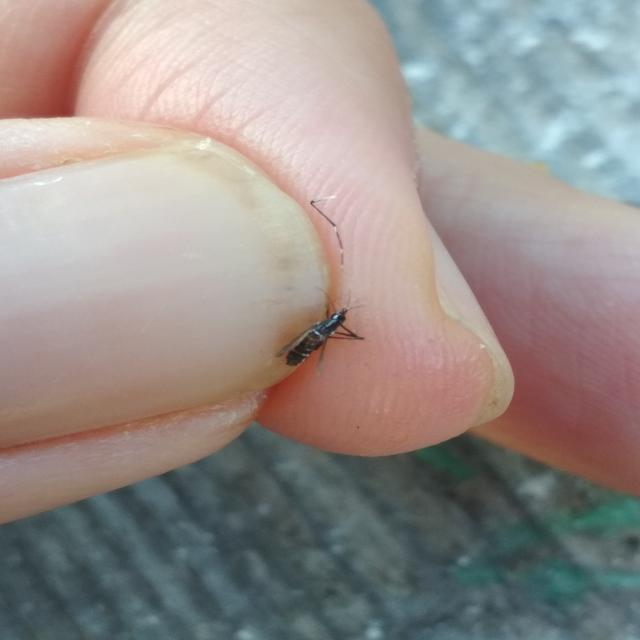albopictus: (268, 280, 376, 375)
